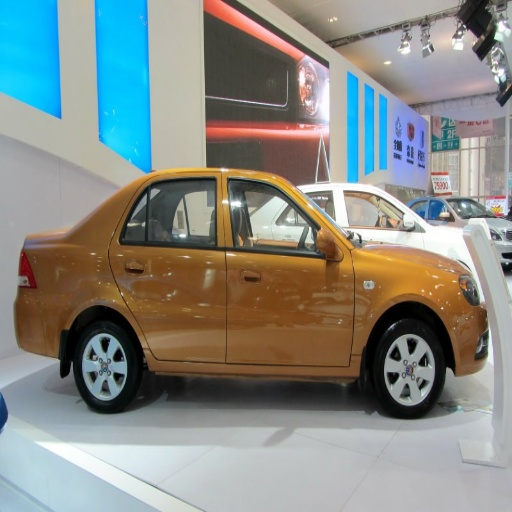back_right_door: (113, 173, 228, 360)
front_right_door: (223, 174, 354, 365)
